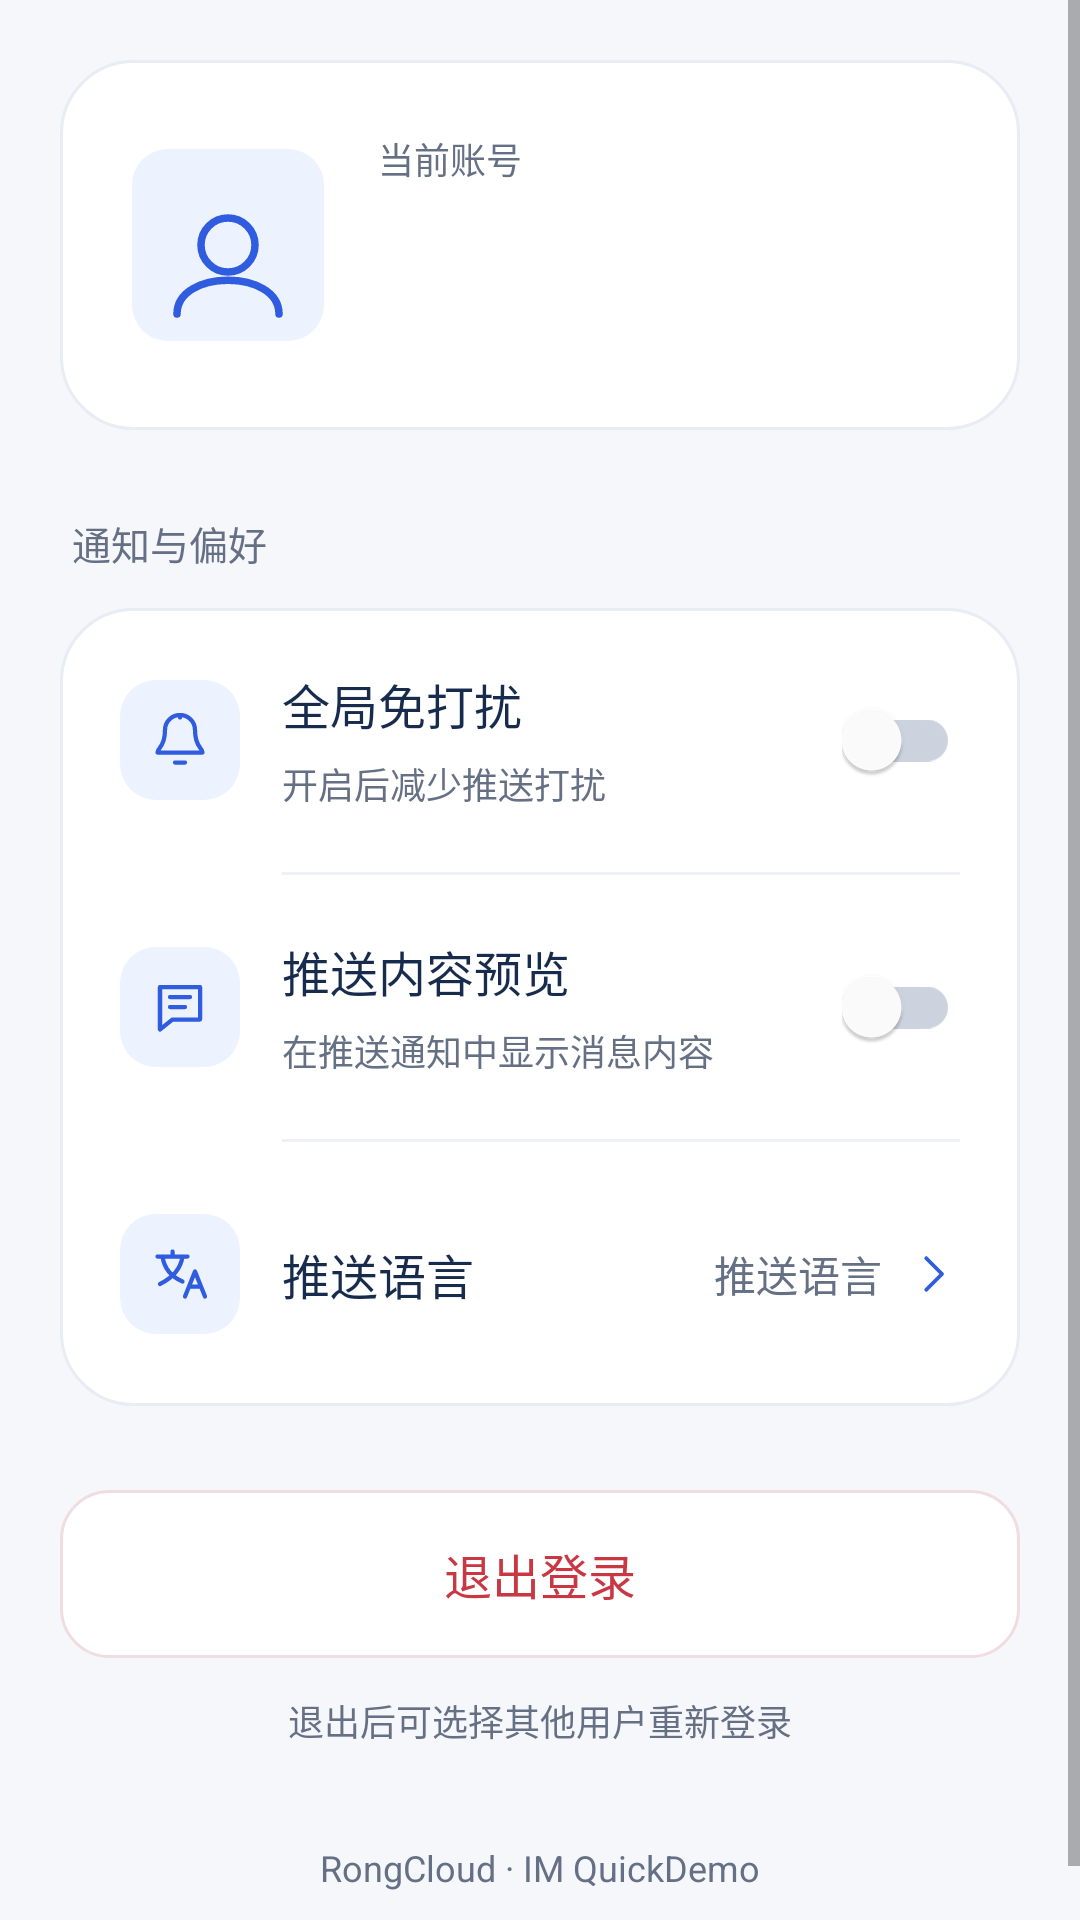

Locate icon controls on the screen. Image size 1080x1920, boxes as (left=x1, top=y1, right=x2, bottom=y2).
mine arrow: (left=924, top=1256, right=944, bottom=1292)
mine language: (left=120, top=1214, right=240, bottom=1334)
mine quiet: (left=120, top=680, right=240, bottom=800)
